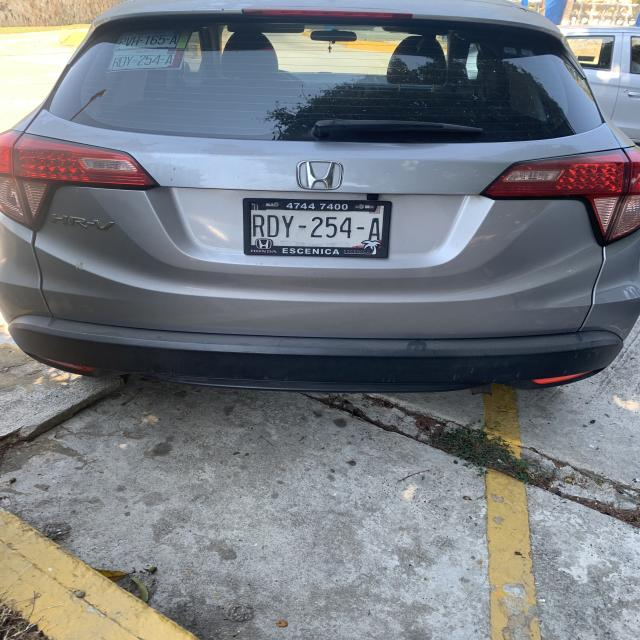placa: (246, 211, 390, 242)
